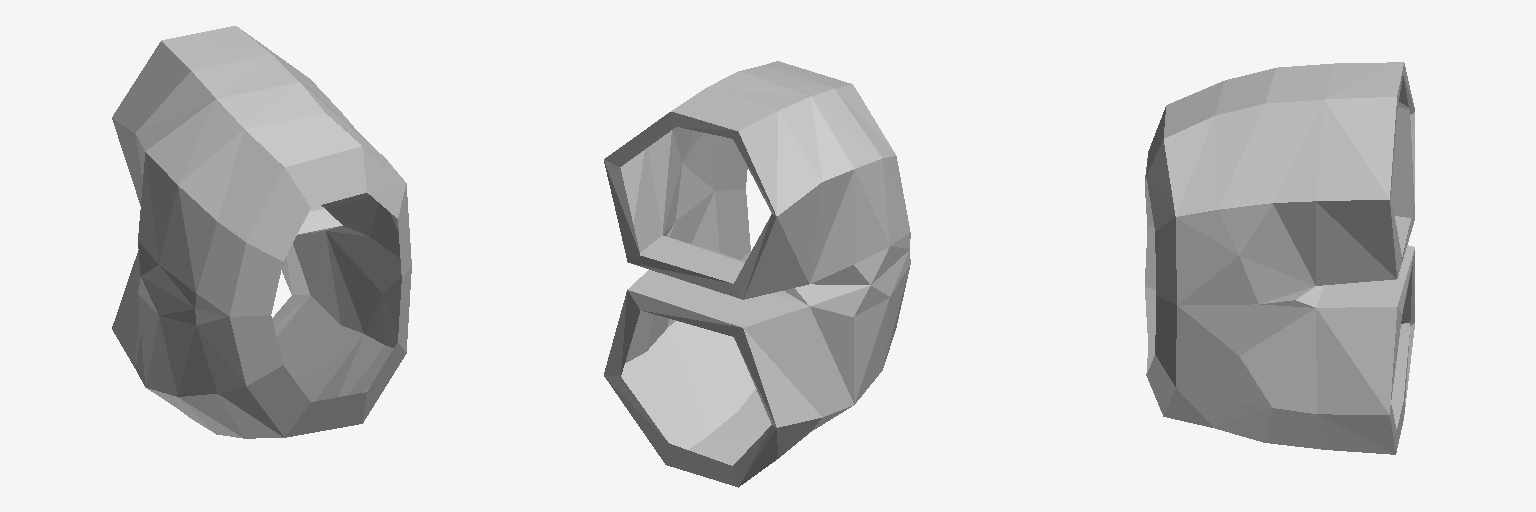
3 renders of one model, left to right at view 1: azimuth 30°, elevation 25°; view 2: azimuth 150°, elevation 25°; view 3: azimuth 270°, elevation 25°, orthographic.
Parts seen in each view (by area): view 1: vr_downbody_000; view 2: vr_downbody_000; view 3: vr_downbody_000.
Boxes of the visible parts, x1=… form: vr_downbody_000: x1=112, y1=26, x2=411, y2=438; vr_downbody_000: x1=604, y1=61, x2=910, y2=487; vr_downbody_000: x1=1145, y1=62, x2=1414, y2=454.
Bounding box in the file's own units: 17.97 × 27.93 × 19.23.